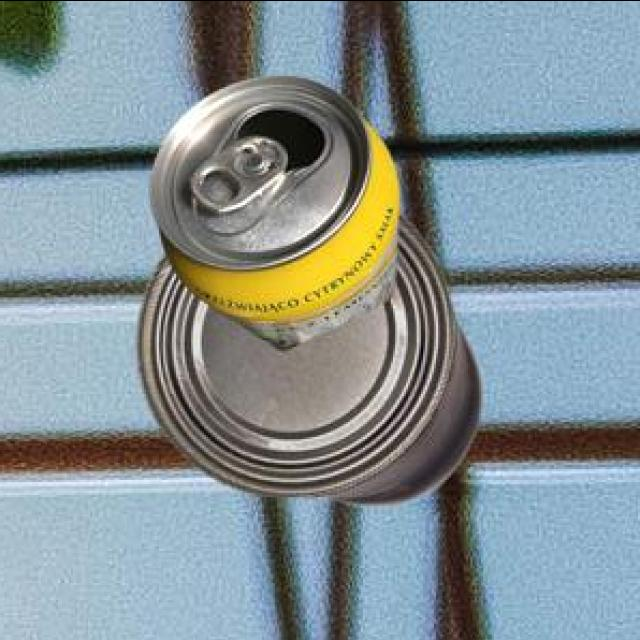logam: (141, 209, 484, 504), (154, 72, 403, 347)
